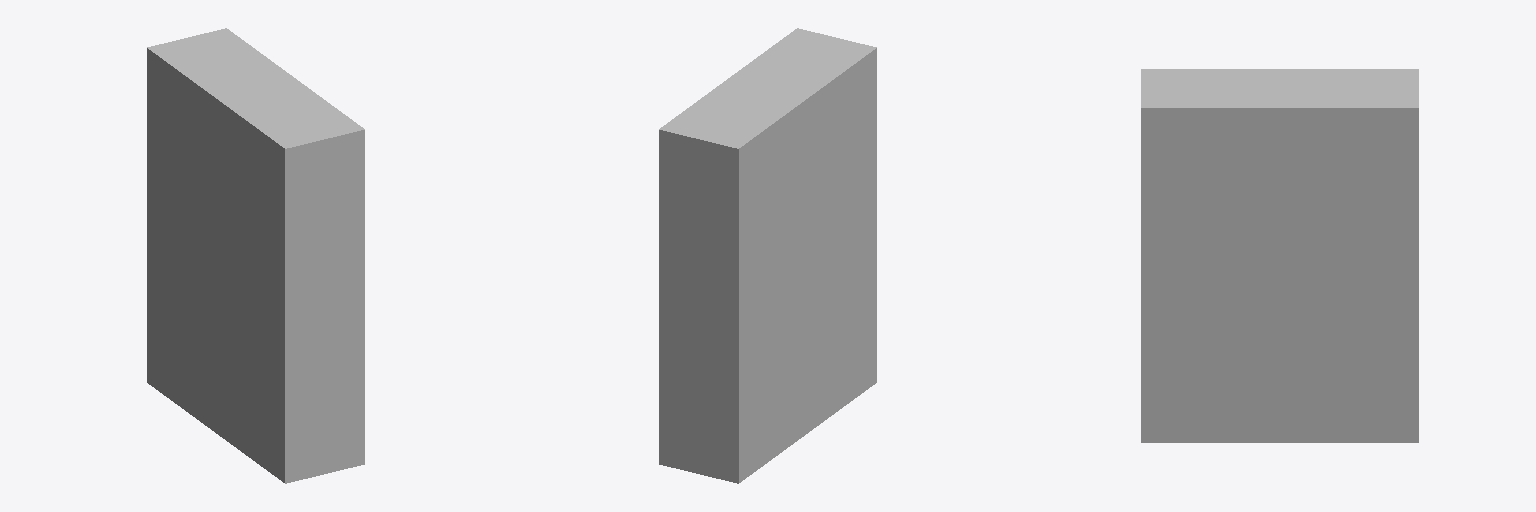
Rendered from coin.obj.
3 views of the same model, side by side, from view 1: azimuth 30°, elevation 25°; view 2: azimuth 150°, elevation 25°; view 3: azimuth 270°, elevation 25° (orthographic).
Parts seen in each view (by area): view 1: object 1; view 2: object 1; view 3: object 1.
Part boxes in pixels (bbox=[...]): object 1: bbox=[147, 28, 364, 483]; object 1: bbox=[659, 28, 876, 483]; object 1: bbox=[1141, 69, 1418, 442].
Bounding box in the file's own units: 0.1 × 0.4 × 0.3.